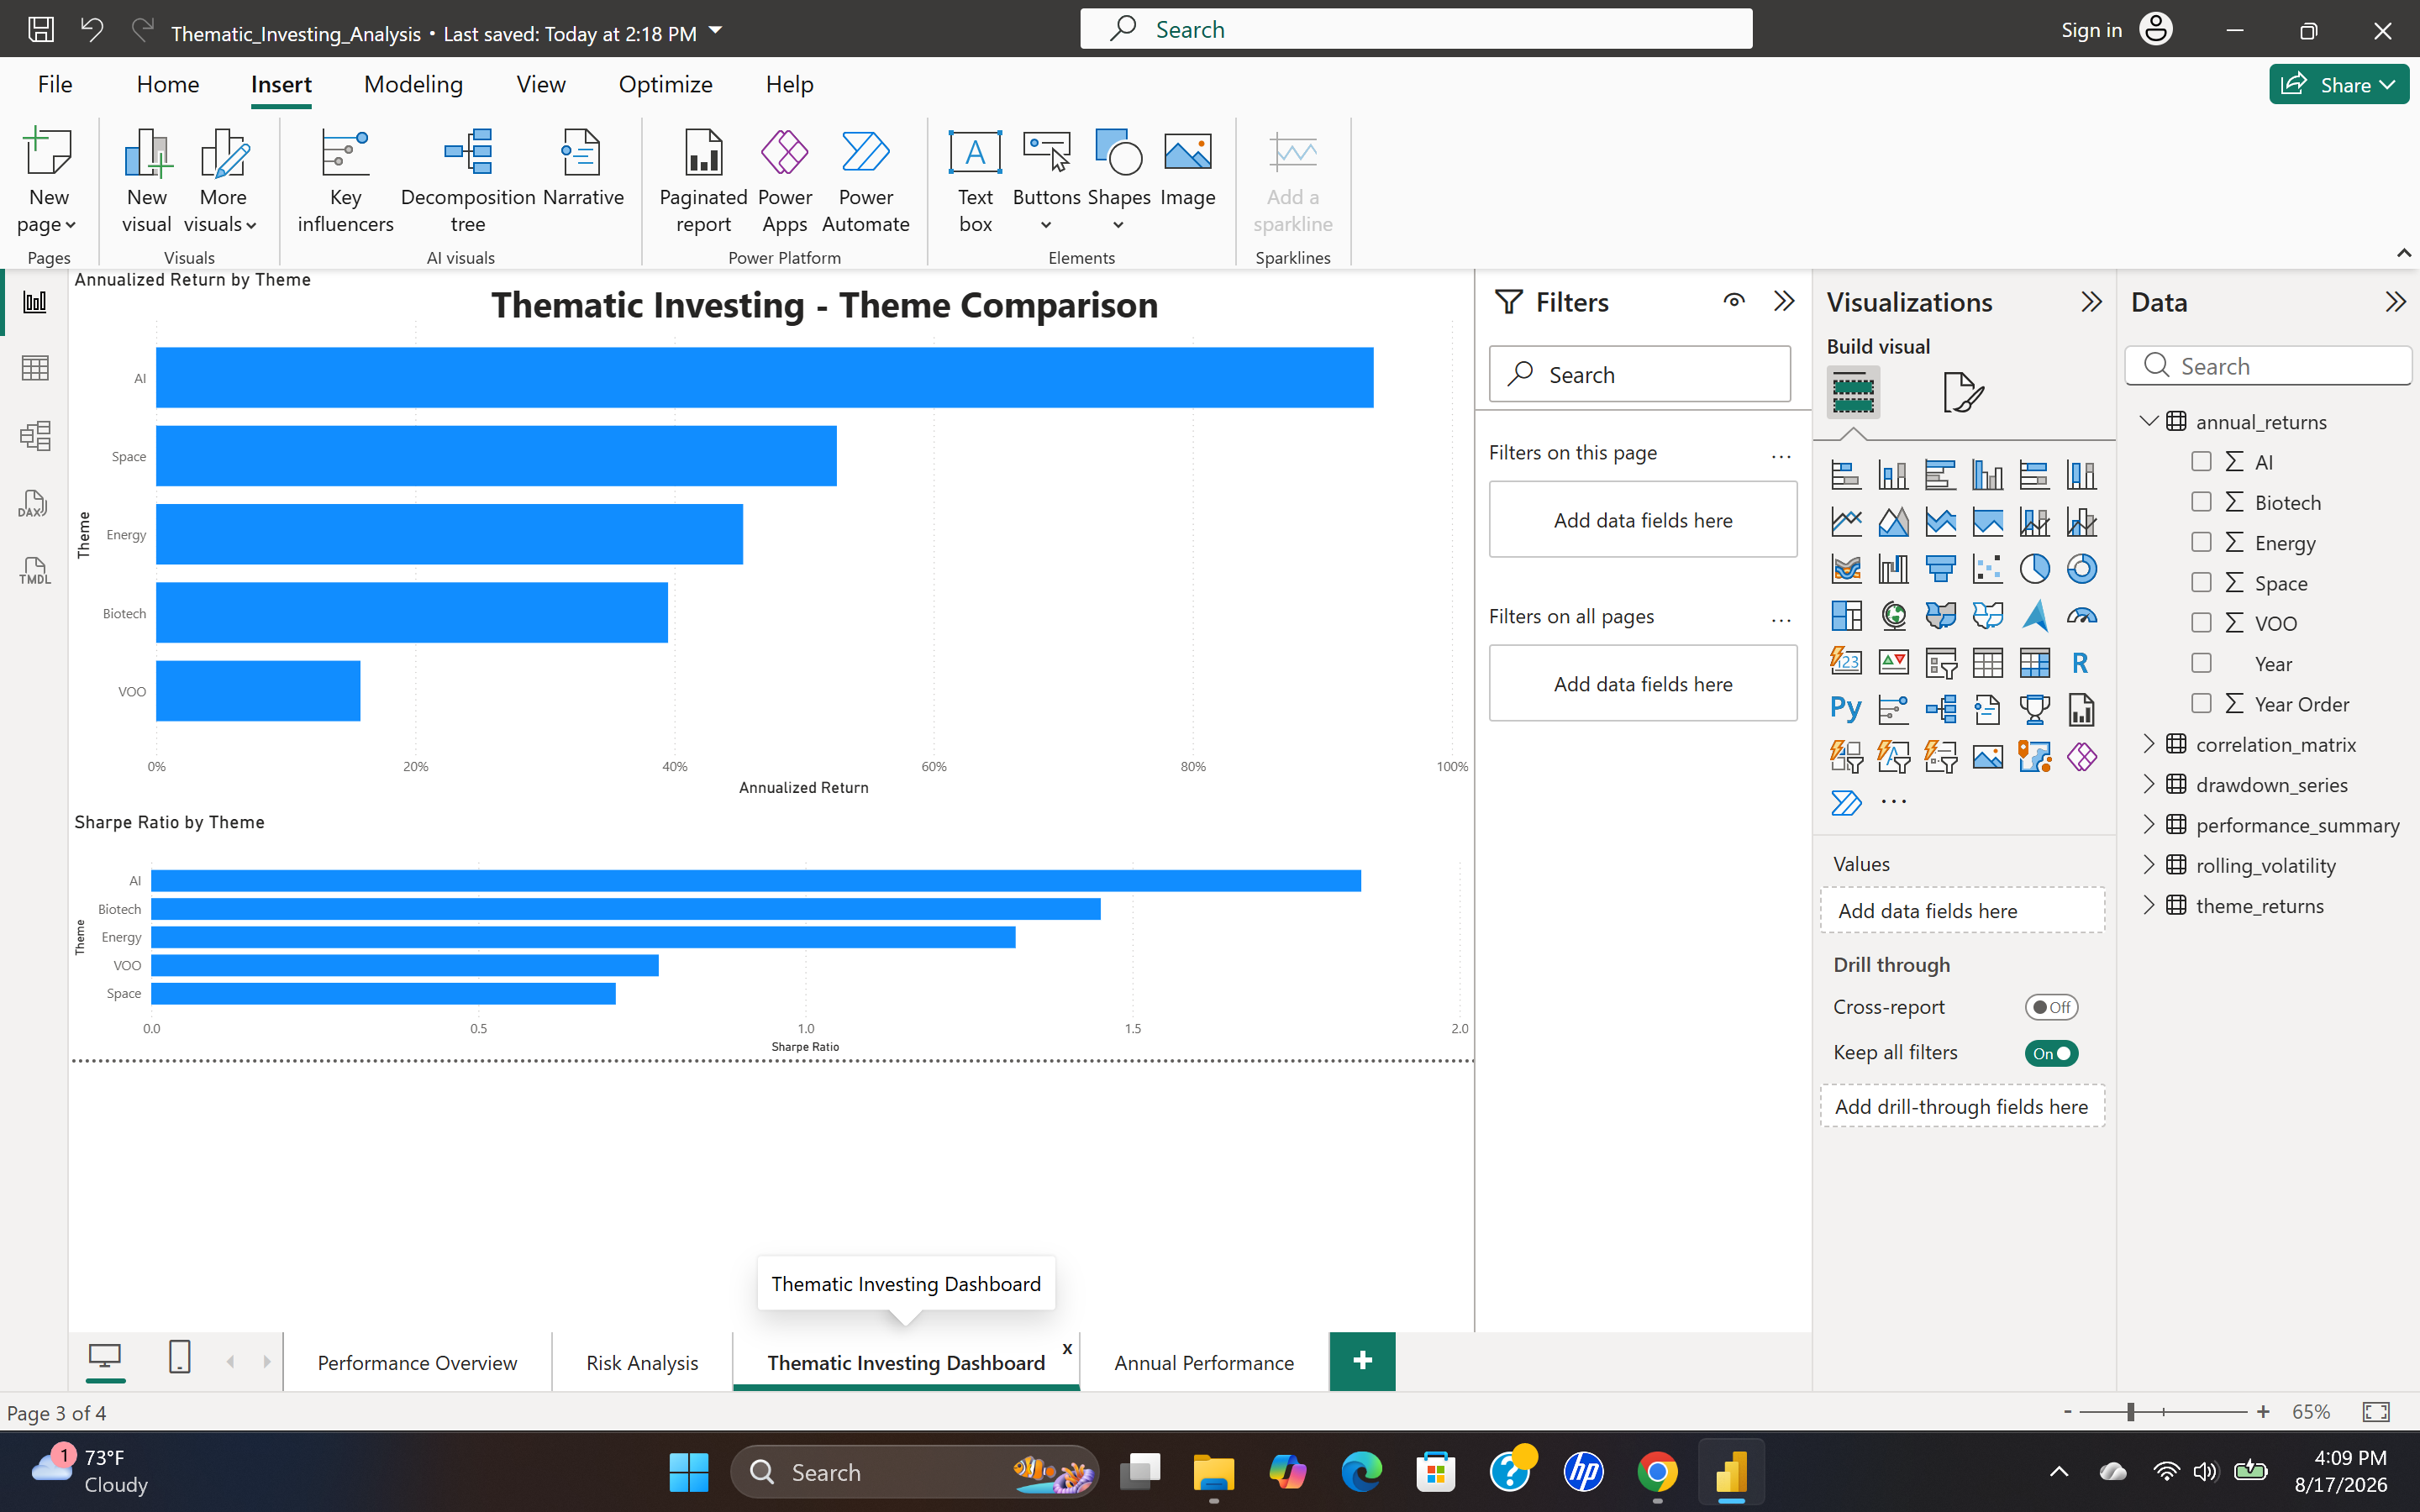

The page's visual inventory and layout, read from the dashboard file:
{"tool":"powerbi","page":{"name":"Thematic Investing Dashboard","canvas":[1280,720],"ordinal":2},"visuals":[{"type":"clusteredBarChart","fields":{"Category":["performance_summary.Theme"],"Y":["Sum(performance_summary.Annualized Return)"]},"box":[0,0,1280,485.4],"z":0},{"type":"clusteredBarChart","fields":{"Category":["performance_summary.Theme"],"Y":["Sum(performance_summary.Sharpe Ratio)"]},"box":[0,494.5,1280,225],"z":1000},{"type":"textbox","box":[379,4.6,675.2,55.1],"z":1001}]}

Visuals, with their boxes on the page's 1280x720 design canvas (x1, y1, x2, y2). These are canvas units, not pixel positions in the 2420x1512 screenshot, which may show the page scaled, cropped or inside an application window:
clusteredBarChart - performance_summary.Theme x Sum(performance_summary.Annualized Return): rect(0, 0, 1280, 485)
clusteredBarChart - performance_summary.Theme x Sum(performance_summary.Sharpe Ratio): rect(0, 494, 1280, 720)
textbox: rect(379, 5, 1054, 60)
